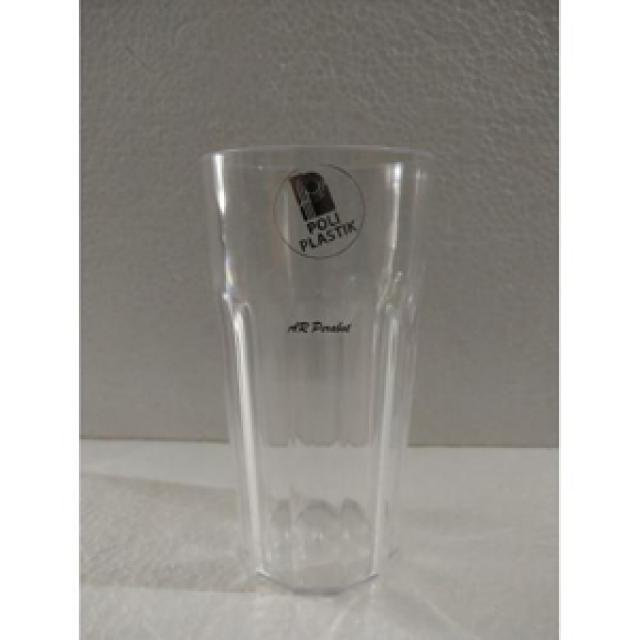plastic cup: (183, 130, 448, 608)
